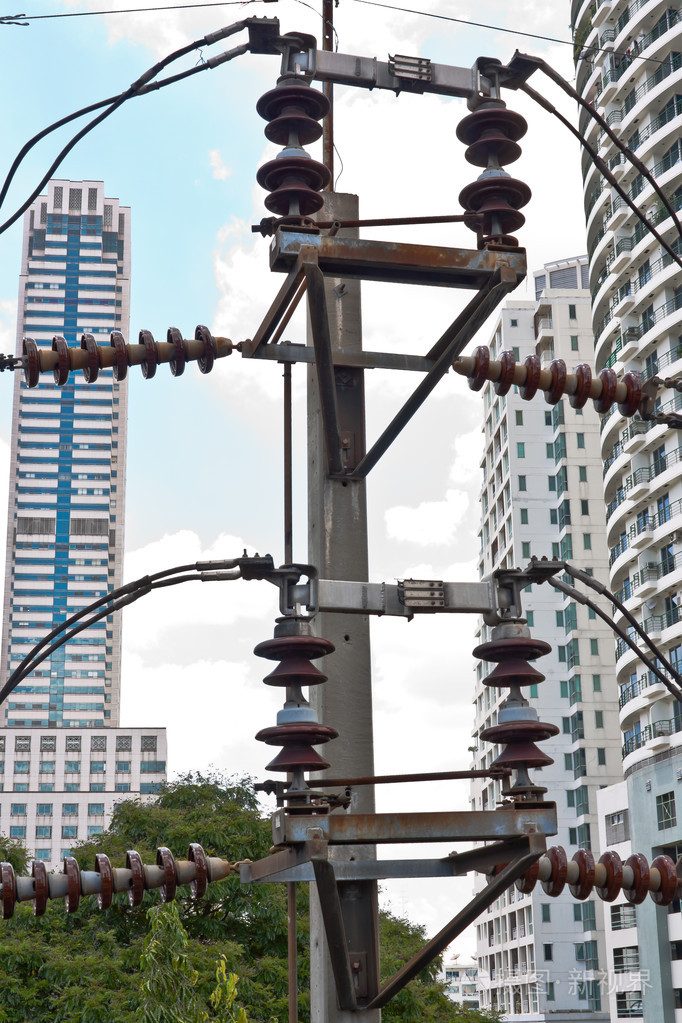insulator: (1, 841, 218, 931), (25, 320, 218, 389), (468, 344, 649, 417), (515, 846, 682, 919), (251, 721, 347, 776), (450, 174, 534, 236), (254, 85, 335, 149), (254, 633, 338, 693), (252, 154, 329, 218), (449, 109, 533, 167), (479, 717, 565, 773), (473, 634, 553, 687)
